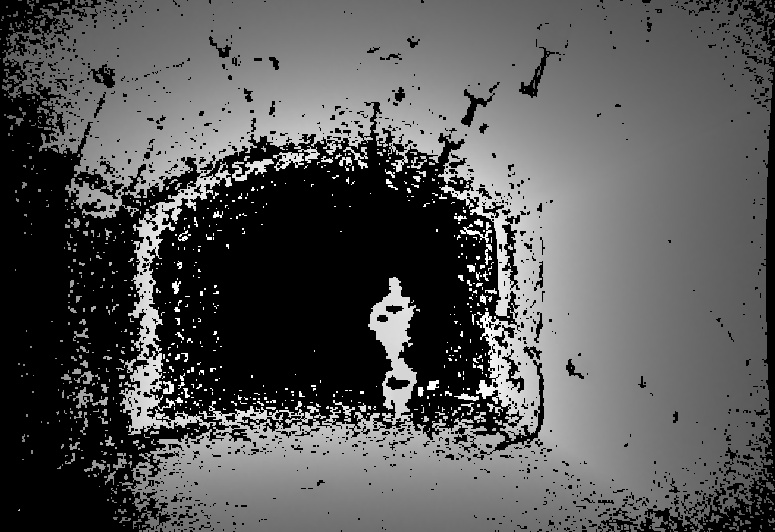person: (368, 276, 417, 418)
